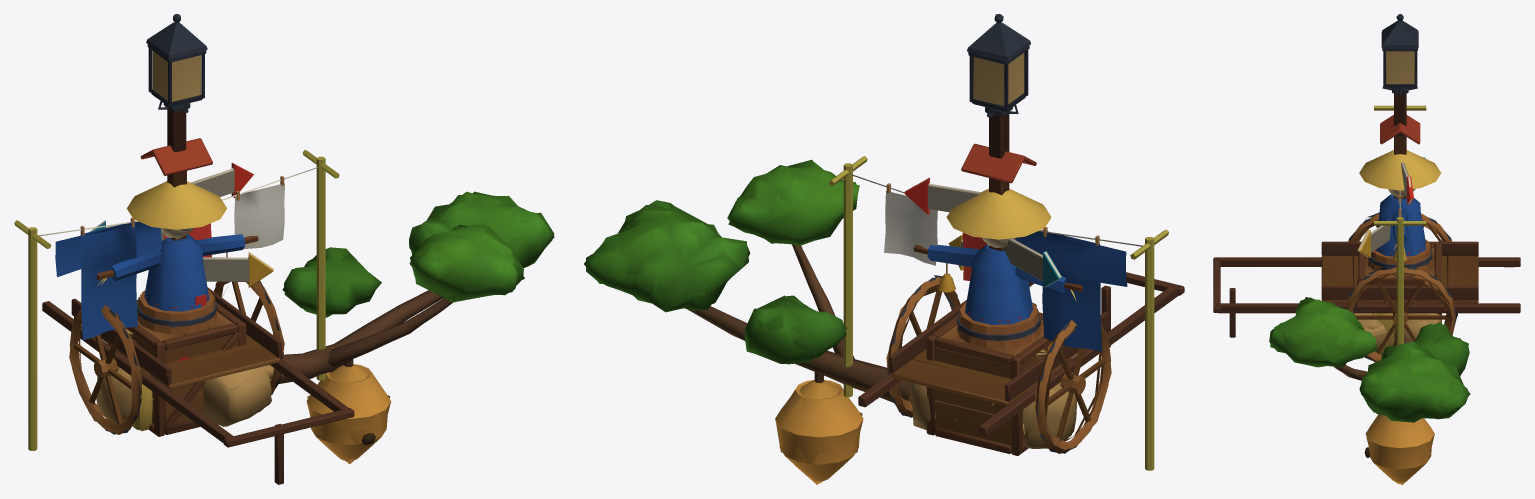
Rendered from props.glb.
3 views of the same model, side by side, from view 1: azimuth 30°, elevation 25°; view 2: azimuth 150°, elevation 25°; view 3: azimuth 270°, elevation 25° (orthographic). The views are drawn at different scales.
Visible parts, largest first — view 1: beehive_branch, laundry_line, cart, beehive_branch_mid, scarecrow, street_lamp, crate, signpost, sacks, scarecrow_mid, cart_mid, barrel_mid (+2 smaller); view 2: beehive_branch, laundry_line, cart, beehive_branch_mid, crate, scarecrow, street_lamp, signpost, scarecrow_mid, cart_mid, sacks, barrel_mid (+2 smaller); view 3: cart, beehive_branch, beehive_branch_mid, scarecrow, street_lamp, signpost, laundry_line, scarecrow_mid, cart_mid, crate, sacks, barrel_mid (+2 smaller).
Boxes of the visible parts, box(x1,y1,x2,y2) form: beehive_branch: box(270, 191, 554, 460); laundry_line: box(14, 149, 339, 450); cart: box(42, 281, 354, 484); beehive_branch_mid: box(270, 191, 554, 464); scarecrow: box(97, 181, 258, 306); street_lamp: box(146, 14, 207, 238); crate: box(108, 301, 246, 436); signpost: box(90, 138, 273, 287); sacks: box(96, 329, 283, 426); scarecrow_mid: box(97, 198, 255, 311); cart_mid: box(69, 280, 343, 432); barrel_mid: box(137, 289, 216, 334); beehive_branch: box(586, 162, 910, 481); laundry_line: box(829, 156, 1168, 470); cart: box(858, 272, 1184, 453); beehive_branch_mid: box(584, 159, 910, 484); crate: box(926, 313, 1070, 455); scarecrow: box(913, 188, 1082, 300); street_lamp: box(967, 14, 1030, 248); signpost: box(904, 143, 1062, 287); scarecrow_mid: box(938, 206, 1051, 324); cart_mid: box(865, 275, 1111, 452); sacks: box(912, 351, 1076, 448); barrel_mid: box(957, 302, 1040, 348); cart: box(1213, 213, 1520, 362); beehive_branch: box(1269, 297, 1469, 482); beehive_branch_mid: box(1270, 297, 1470, 484); scarecrow: box(1360, 150, 1440, 261); street_lamp: box(1381, 14, 1418, 197); signpost: box(1357, 115, 1425, 257); laundry_line: box(1374, 105, 1426, 345); scarecrow_mid: box(1359, 165, 1441, 260); cart_mid: box(1322, 212, 1514, 360); crate: box(1357, 243, 1441, 322); sacks: box(1354, 313, 1441, 346); barrel_mid: box(1367, 240, 1432, 275).
Bounding box in the file's own units: 4.65 × 4.23 × 2.94.
